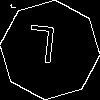L: (25, 25, 57, 73)
